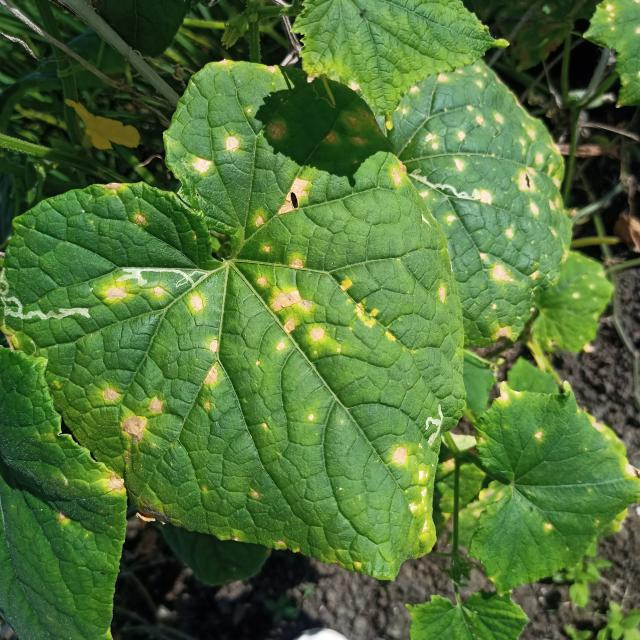disease_cucumber: (74, 116, 439, 540), (403, 66, 572, 307)
